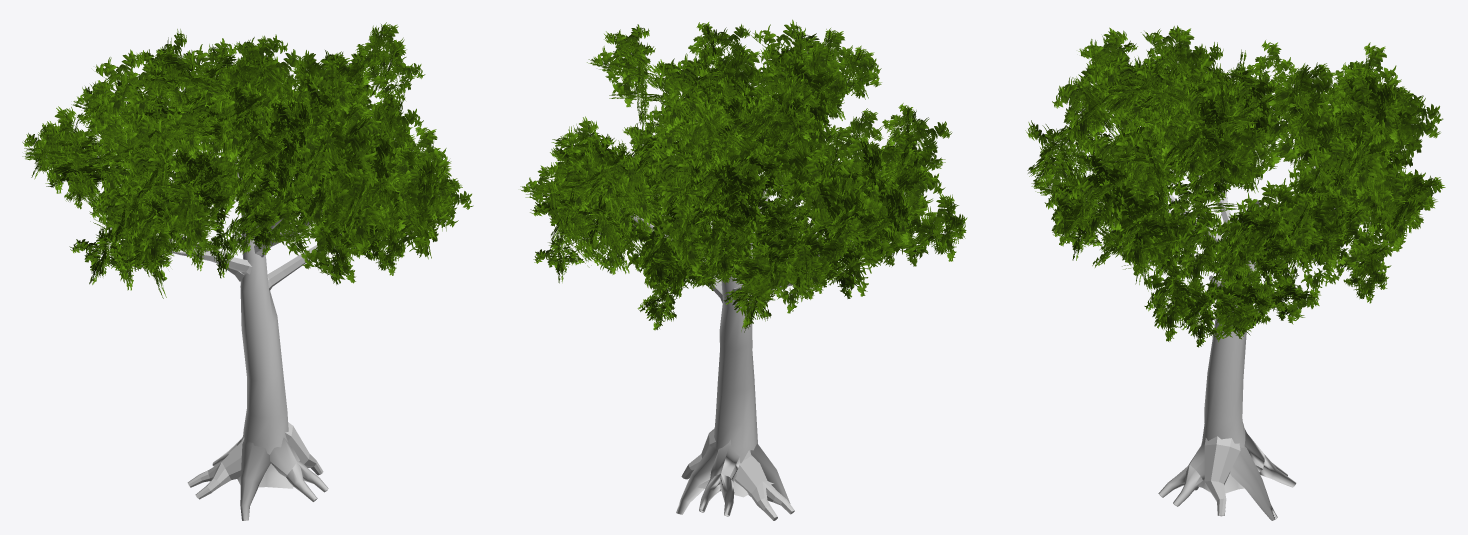
The model's file is TreeA.FBX.
3 renders of one model, left to right at view 1: azimuth 30°, elevation 25°; view 2: azimuth 150°, elevation 25°; view 3: azimuth 270°, elevation 25°, orthographic.
Parts seen in each view (by area): view 1: TreeA_Leaves, TreeA; view 2: TreeA_Leaves, TreeA; view 3: TreeA_Leaves, TreeA.
Boxes of the visible parts, x1,y1,x2,y2 form: TreeA_Leaves: (22,22,473,298); TreeA: (107,156,341,520); TreeA_Leaves: (520,19,967,332); TreeA: (620,142,831,520); TreeA_Leaves: (1025,25,1445,347); TreeA: (1158,166,1335,520).
Size of the model in its own units: 271 by 281 by 243.
